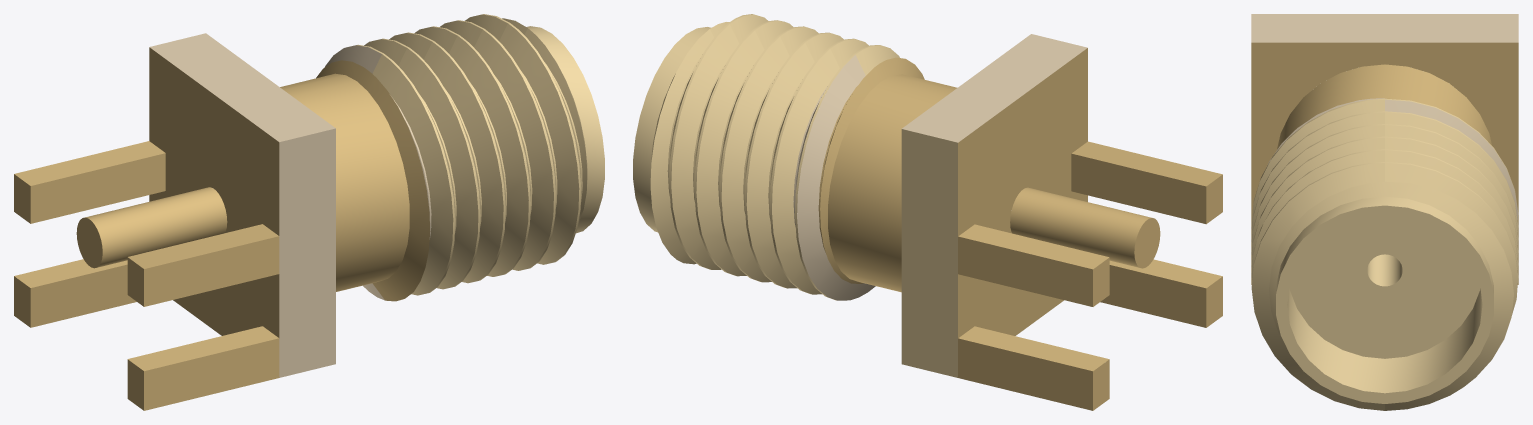
The model's file is sma.glb.
3 renders of one model, left to right at view 1: azimuth 30°, elevation 25°; view 2: azimuth 150°, elevation 25°; view 3: azimuth 270°, elevation 25°, orthographic. The views are drawn at different scales.
Size of the model in its own units: 13.33 by 6.35 by 6.35.
